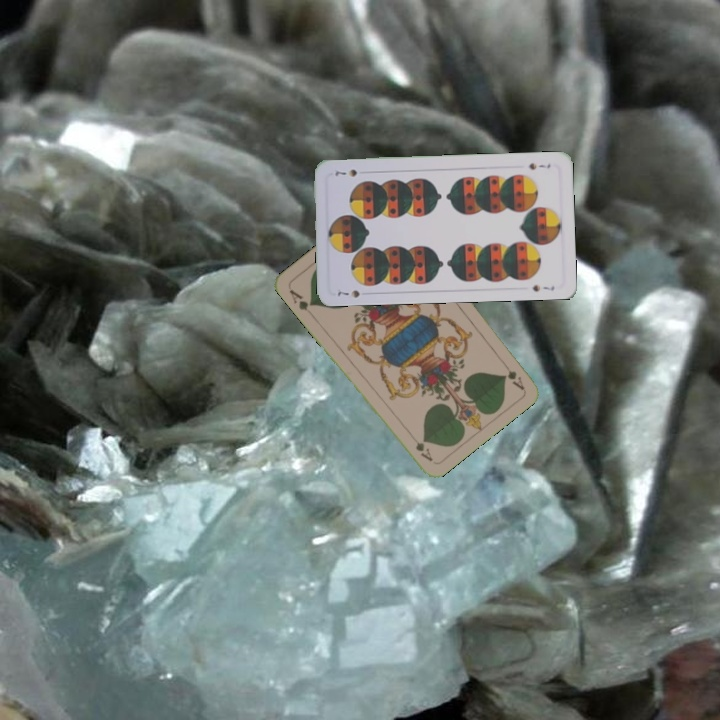GA: (497, 356, 527, 392), (285, 285, 316, 318)
S7: (332, 285, 362, 300), (525, 159, 553, 172)
